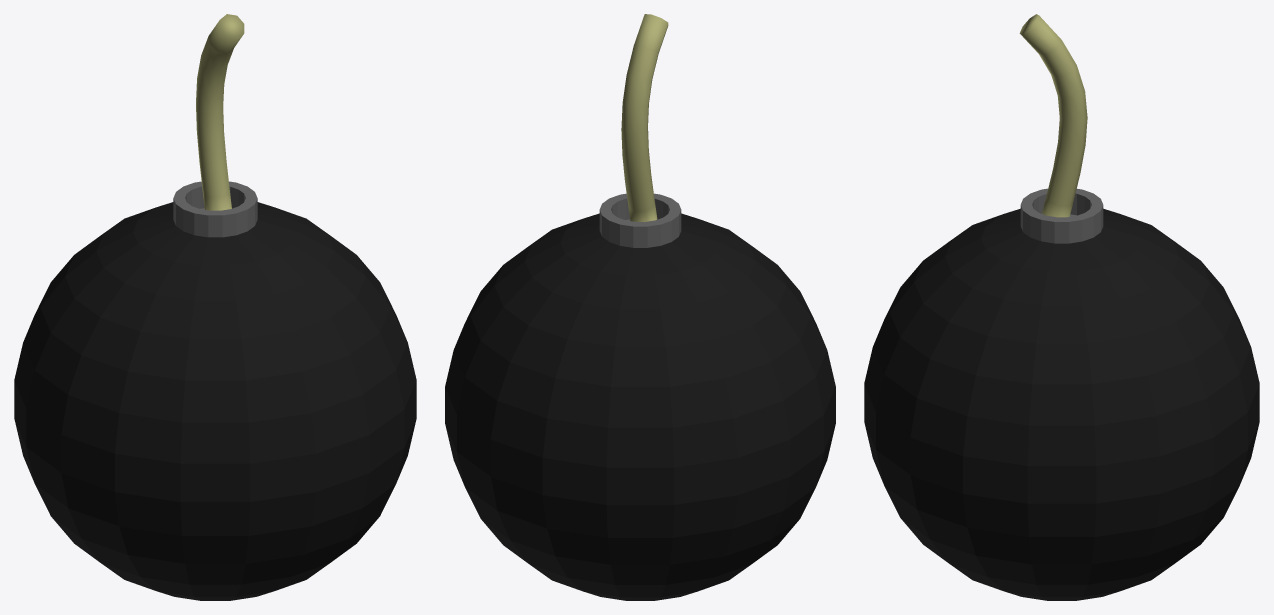
Rendered from Bomb.fbx.
The picture shows the model from 3 angles, left to right: view 1: azimuth 30°, elevation 25°; view 2: azimuth 150°, elevation 25°; view 3: azimuth 270°, elevation 25°; orthographic projection. The views are drawn at different scales.
Parts seen in each view (by area): view 1: Da Bomb; view 2: Da Bomb; view 3: Da Bomb.
Boxes of the visible parts, x1,y1,x2,y2 form: Da Bomb: (14, 14, 416, 600); Da Bomb: (445, 14, 835, 600); Da Bomb: (864, 14, 1259, 600).
Bounding box in the file's own units: 196 × 315 × 199.
